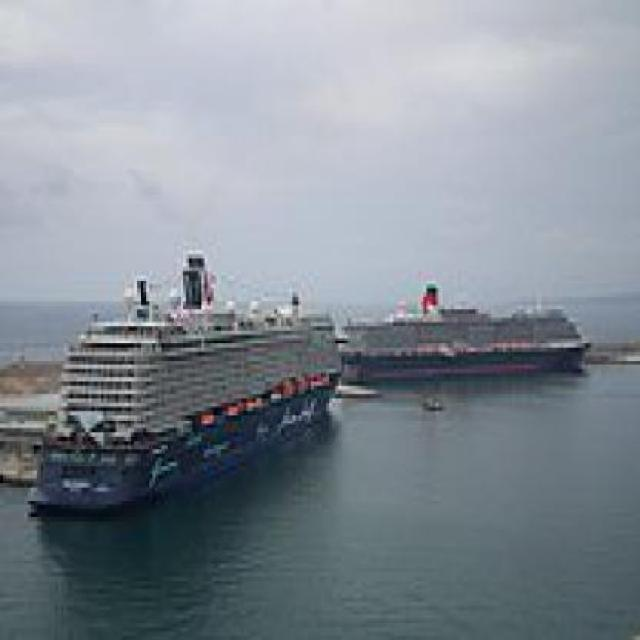cruise: (23, 238, 349, 522)
